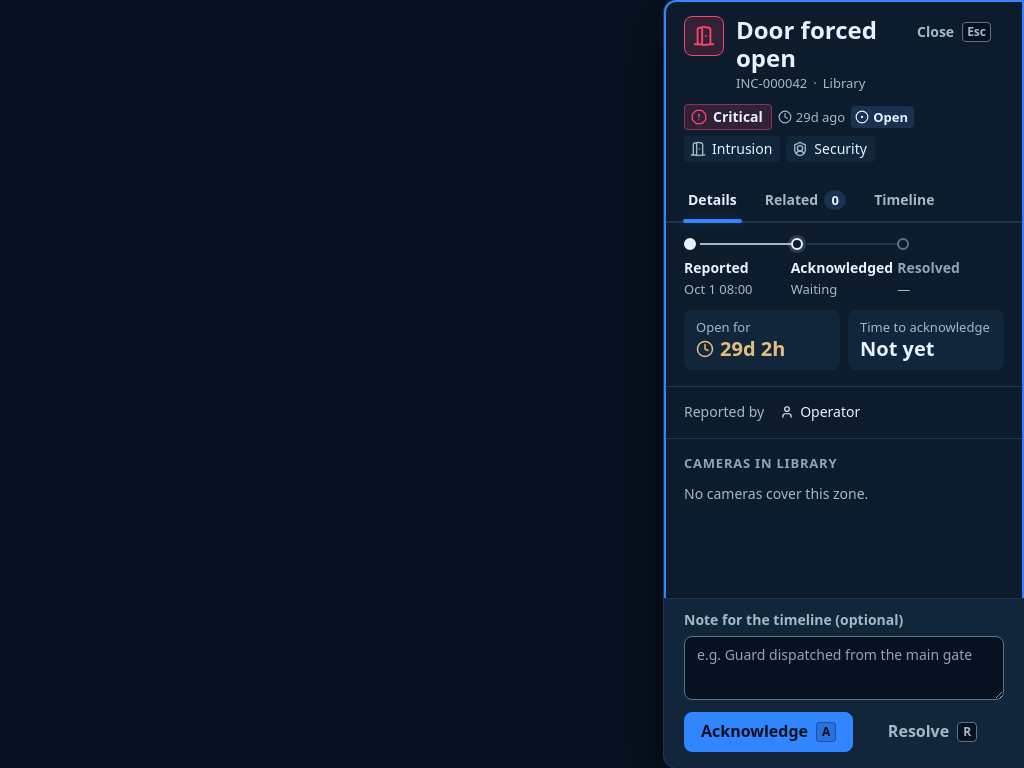
Scenario: IncidentDetail › resolve confirmation › cancels on Escape and keeps the sheet open
Step 1. Click the button "Resolve R" → click(932, 732), box [861,712,1004,752]
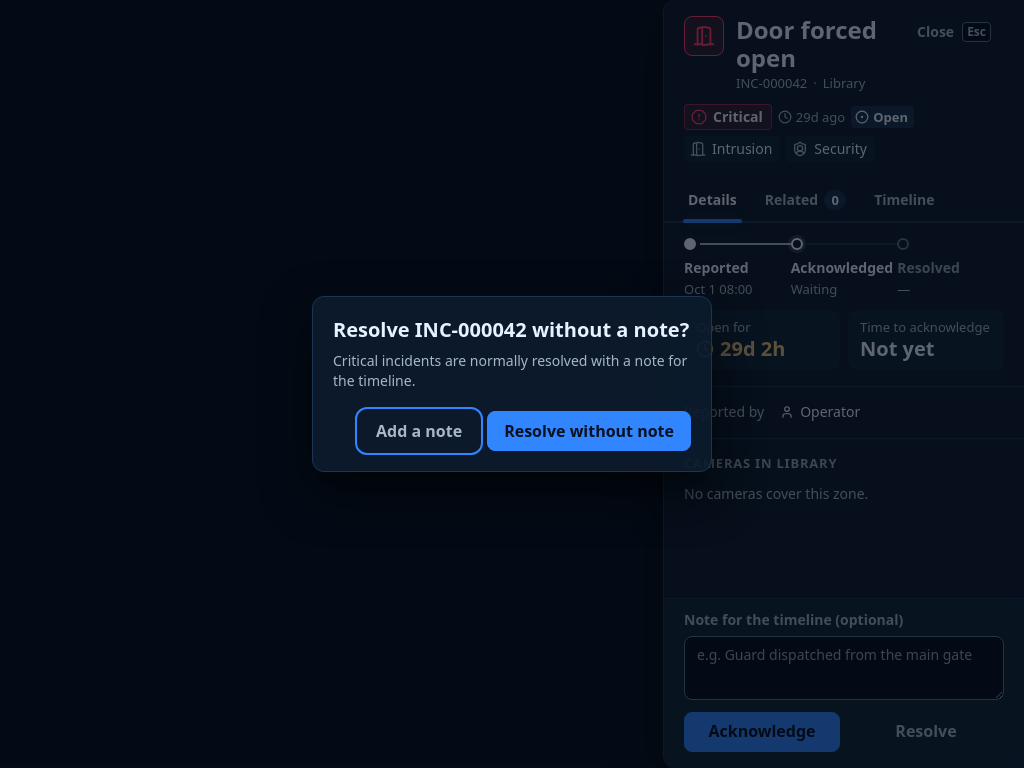
Step 2. Press Escape
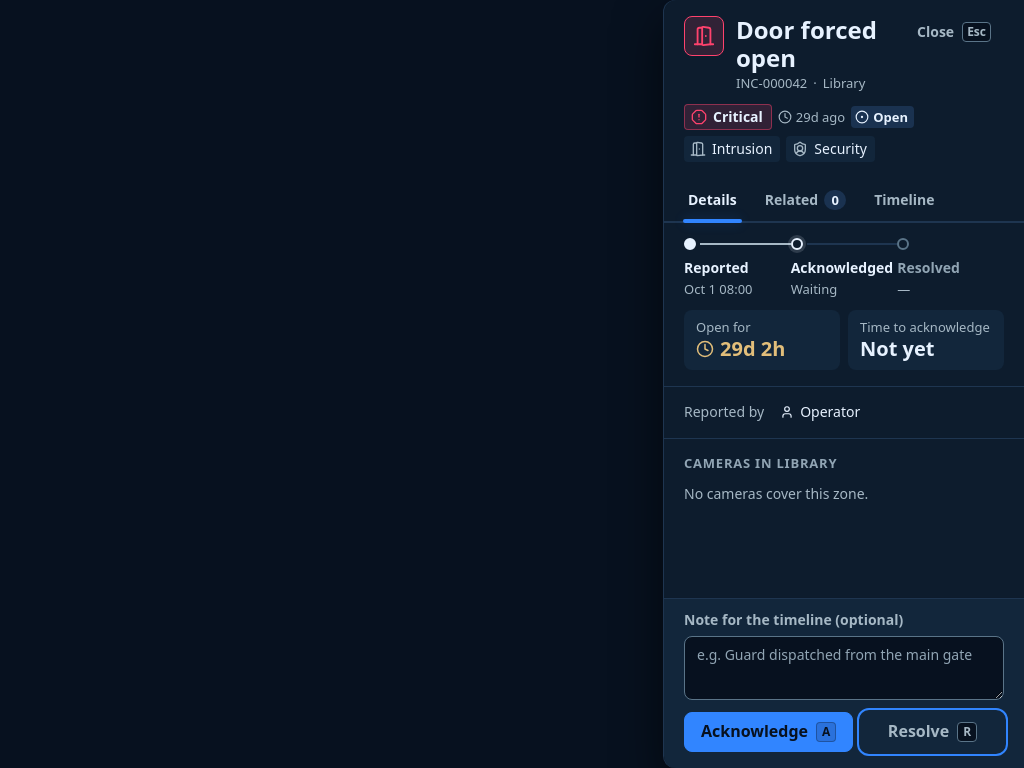
Expected: the heading "Resolve INC-000042 without a note?" is gone
